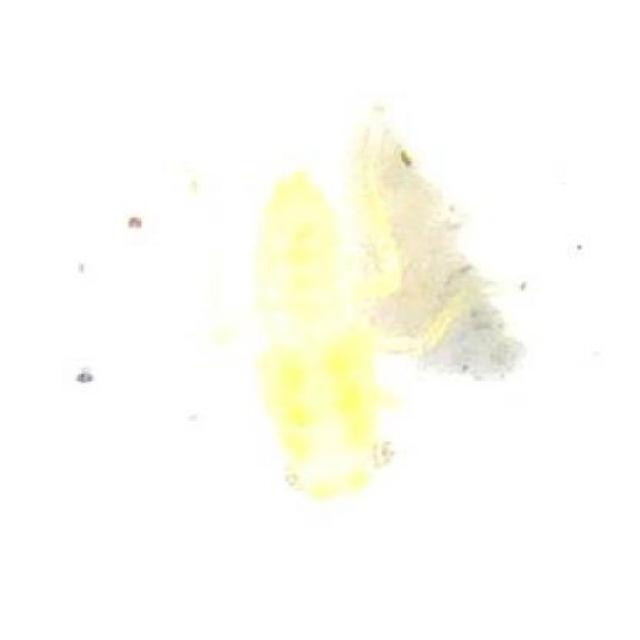green-leafhopper: (238, 157, 430, 501)
